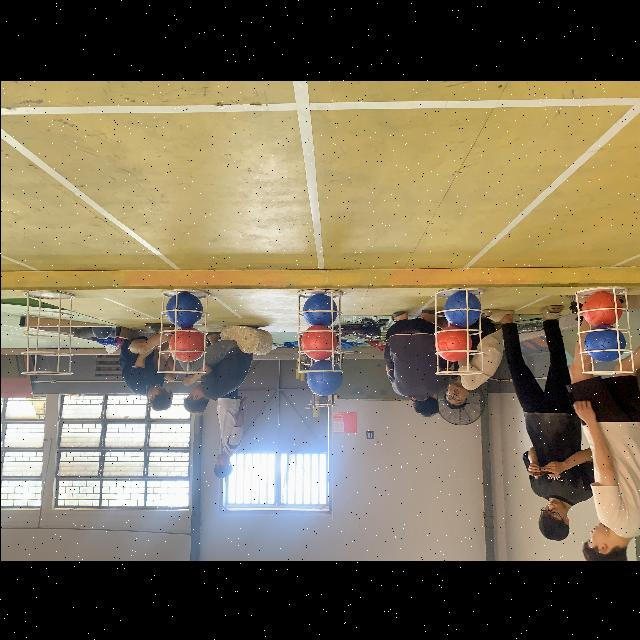B: (584, 326, 626, 362), (442, 288, 480, 326), (296, 324, 336, 360), (580, 290, 622, 324), (300, 290, 336, 326), (306, 360, 342, 396), (433, 326, 471, 360), (165, 292, 203, 326), (168, 328, 202, 360)
